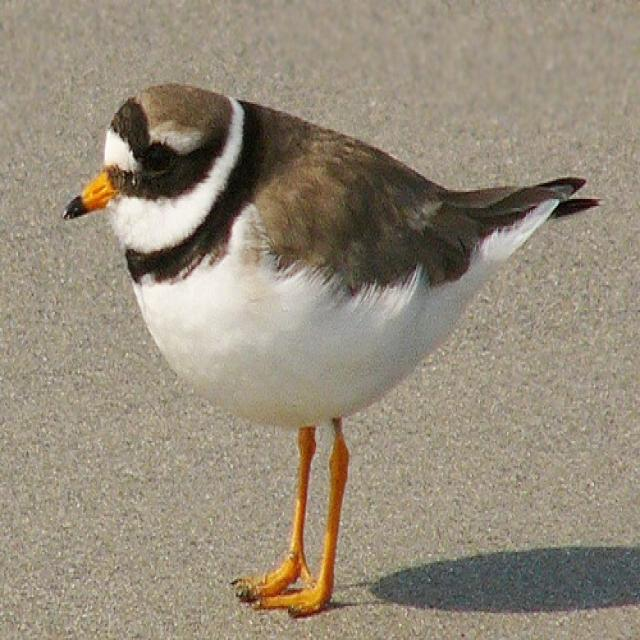bird: (62, 83, 606, 616)
